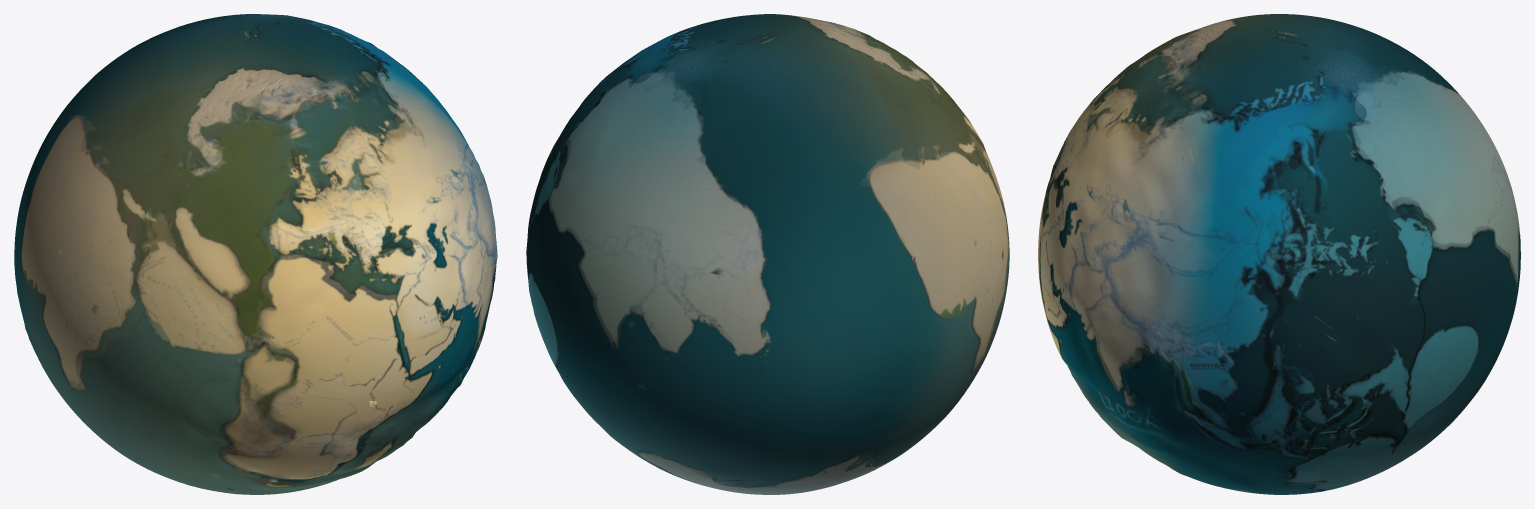
The model's file is globe.glb.
The picture shows the model from 3 angles, left to right: view 1: azimuth 30°, elevation 25°; view 2: azimuth 150°, elevation 25°; view 3: azimuth 270°, elevation 25°; orthographic projection.
Bounding box in the file's own units: 2 × 2 × 2.
Materials: 1 (1 with a texture image).
